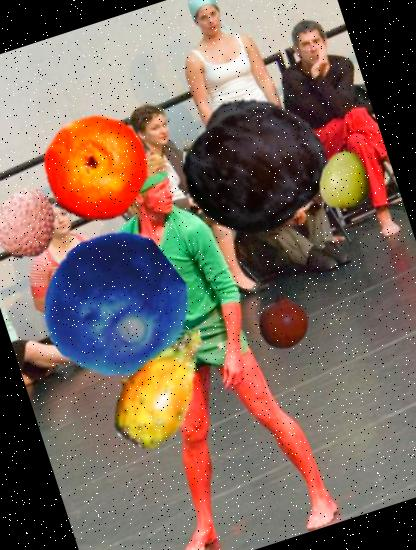Cactus: (80, 302, 248, 470)
Clementine: (25, 99, 164, 238)
Huckleberry: (25, 216, 204, 396)
Lychee: (0, 175, 71, 267)
Pear: (303, 137, 385, 218)
Plum: (164, 74, 349, 259)
Pomegranate: (246, 283, 319, 356)
